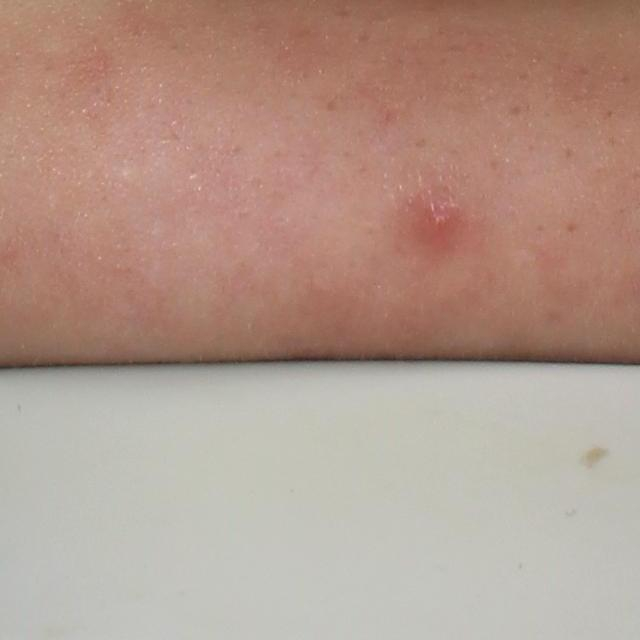papule: (419, 200, 459, 246)
